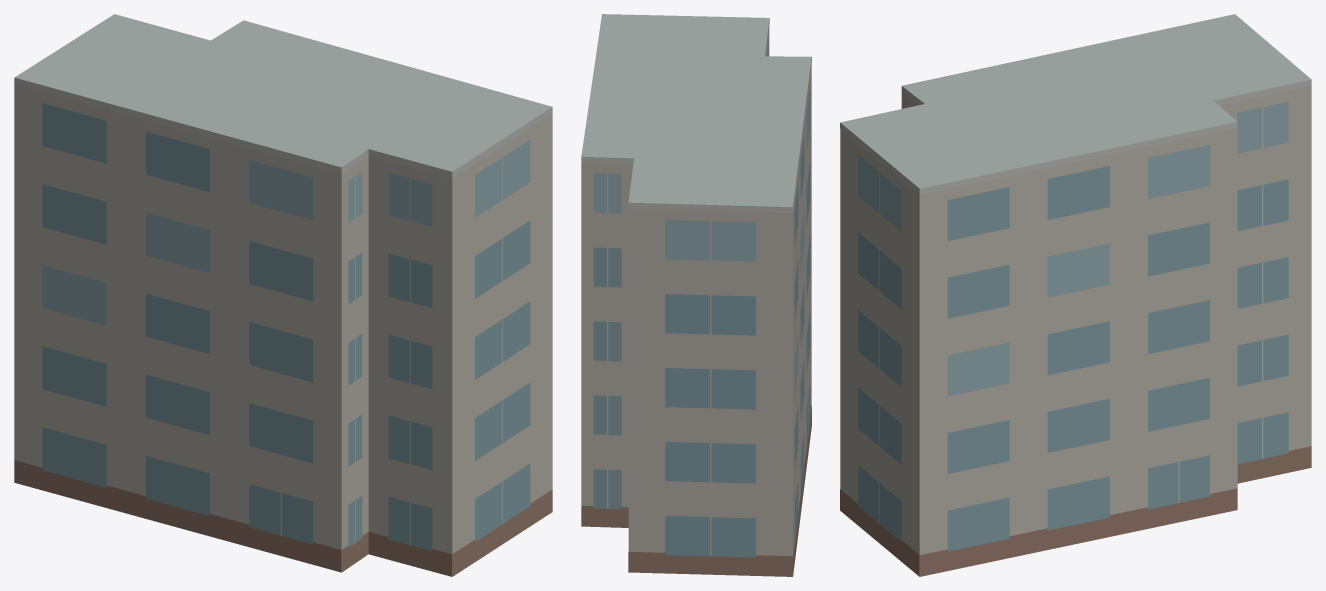
The model's file is survey-upis-32841713.glb.
3 renders of one model, left to right at view 1: azimuth 30°, elevation 25°; view 2: azimuth 150°, elevation 25°; view 3: azimuth 270°, elevation 25°, orthographic. The views are drawn at different scales.
Parts seen in each view (by area): view 1: survey-upis-32841713.tmp; view 2: survey-upis-32841713.tmp; view 3: survey-upis-32841713.tmp.
Boxes of the visible parts, bbox=[...] form: survey-upis-32841713.tmp: bbox=[14, 14, 552, 576]; survey-upis-32841713.tmp: bbox=[581, 14, 811, 576]; survey-upis-32841713.tmp: bbox=[840, 14, 1311, 576].
Size of the model in its own units: 14.97 by 15.5 by 17.07.
